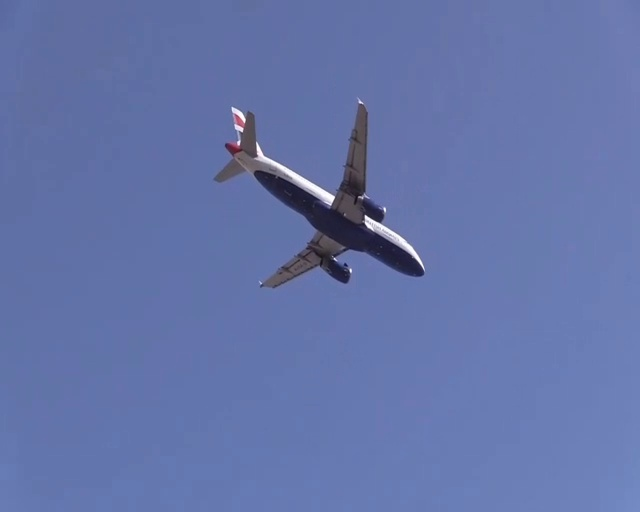AIRPLANE: (211, 100, 423, 290)
